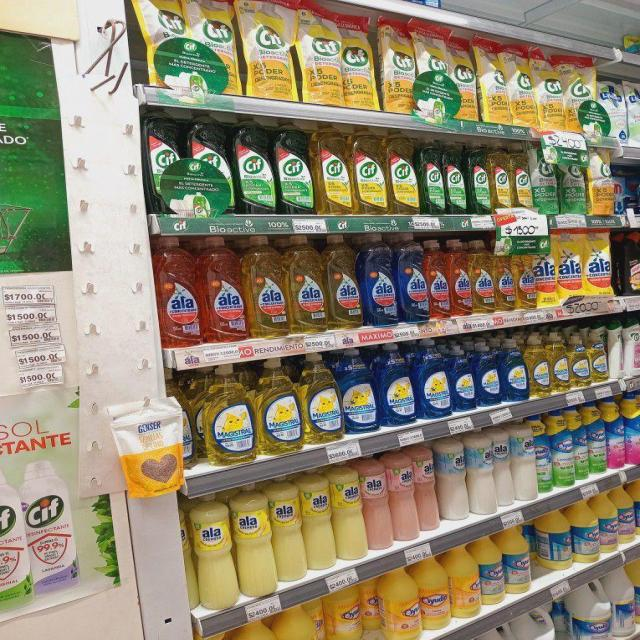ala_conc_amarillo: (248, 234, 288, 338), (289, 233, 326, 334), (327, 234, 362, 329), (472, 239, 494, 314), (494, 241, 514, 311), (515, 246, 536, 310)
ala_conc_azul: (362, 233, 398, 327), (398, 236, 428, 323)
ala_conc_rojo: (157, 236, 201, 347), (203, 236, 246, 342), (448, 239, 471, 317), (428, 239, 449, 319)
ala_crem_amarillo: (192, 494, 234, 610), (234, 482, 274, 598), (272, 474, 304, 584), (302, 466, 334, 572), (333, 460, 365, 562)
ala_crem_blanco: (438, 434, 468, 522), (468, 428, 495, 516), (512, 419, 537, 503), (495, 424, 512, 508), (536, 418, 553, 496)
ala_crem_rosado: (364, 455, 391, 553), (390, 447, 417, 543), (416, 441, 438, 534)
ala_sachet_amarillo: (584, 228, 614, 297), (558, 227, 582, 304), (536, 235, 557, 308)
cif_conc_bot_amarilla: (314, 121, 350, 215), (352, 125, 386, 214), (388, 129, 418, 215), (490, 141, 511, 211), (512, 141, 531, 210), (623, 234, 640, 296)
cif_conc_botella_verde: (186, 111, 232, 215), (146, 106, 183, 215), (234, 116, 274, 214), (276, 118, 313, 215), (419, 137, 444, 215), (444, 140, 466, 215), (468, 140, 490, 214)
cif_conc_sachet_amarillo: (241, 0, 296, 100), (188, 0, 238, 94), (299, 1, 341, 106), (342, 9, 377, 110), (380, 16, 414, 113), (565, 56, 597, 132), (536, 48, 565, 130)
cif_conc_sachet_verde: (560, 143, 587, 214), (532, 141, 558, 213)
magistral_con_amarillo: (201, 364, 254, 465), (257, 357, 300, 455), (302, 352, 341, 443), (528, 334, 550, 398), (550, 333, 569, 392), (570, 332, 589, 388), (590, 325, 607, 383), (608, 316, 622, 379)
magistral_con_azul: (342, 348, 378, 434), (380, 343, 416, 426), (417, 341, 451, 419), (501, 338, 527, 402), (452, 342, 475, 412), (476, 340, 500, 407)
